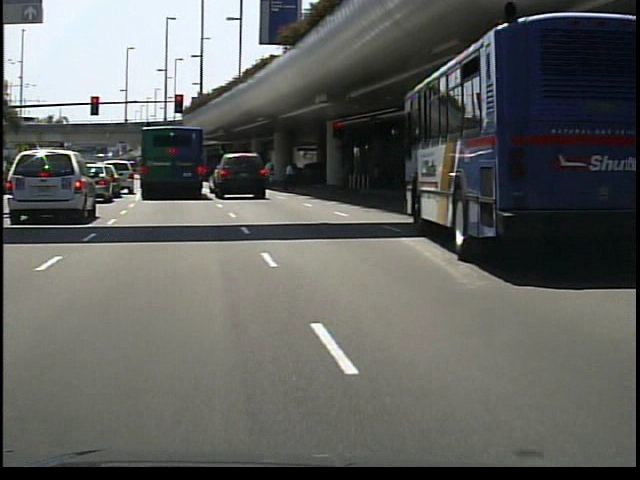person: (280, 157, 300, 194)
